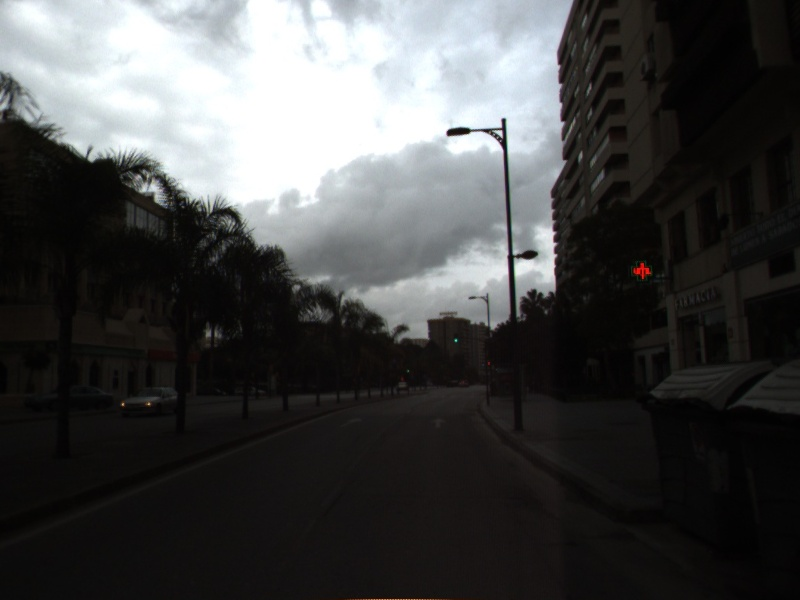STRAIGHT: (337, 415, 365, 429), (428, 415, 449, 430)
